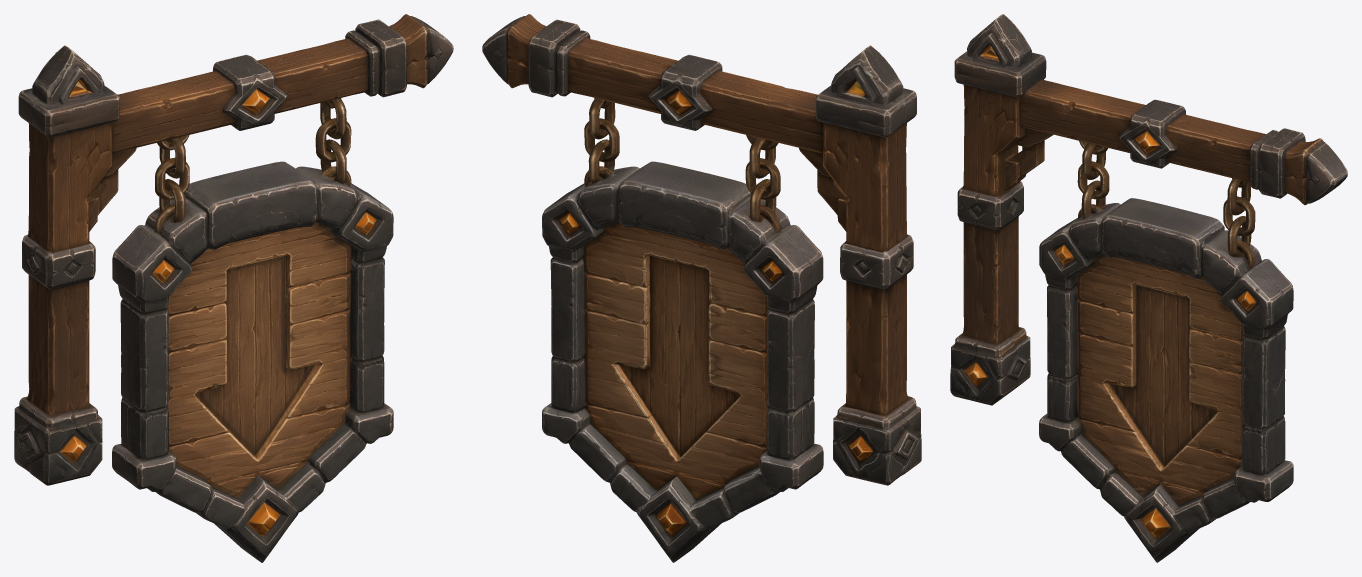
Rendered from pass-sign.glb.
3 views of the same model, side by side, from view 1: azimuth 30°, elevation 25°; view 2: azimuth 150°, elevation 25°; view 3: azimuth 330°, elevation 25° (orthographic). The views are drawn at different scales.
Parts seen in each view (by area): view 1: mesh_node; view 2: mesh_node; view 3: mesh_node.
Part boxes in pixels (<box>): mesh_node: <box>14,14,453,562</box>; mesh_node: <box>482,14,921,562</box>; mesh_node: <box>950,14,1347,562</box>.
Size of the model in its own units: 1.51 by 1.9 by 0.2461.
Materials: 1 (1 with a texture image).
